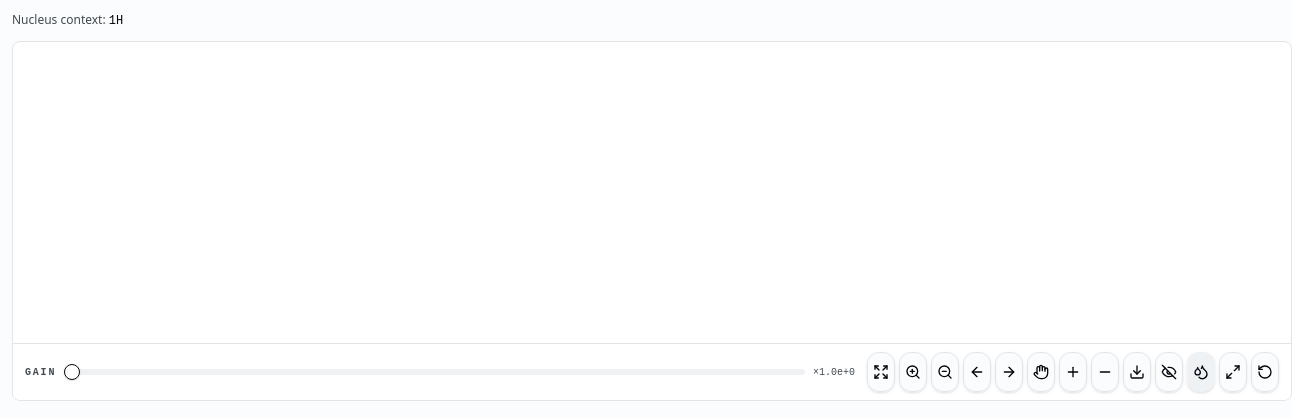
Scenario: canvas gesture contract — single-spectrum viewer › Escape cancels a drag and never resets the zoom
The width and height of the screenshot is (1292, 418).
Press + in the element with test id "spectrum-move-pane"
Press the mouse on the element with test id "spectrum-move-pane" at (652, 192), box [13, 42, 1291, 343]
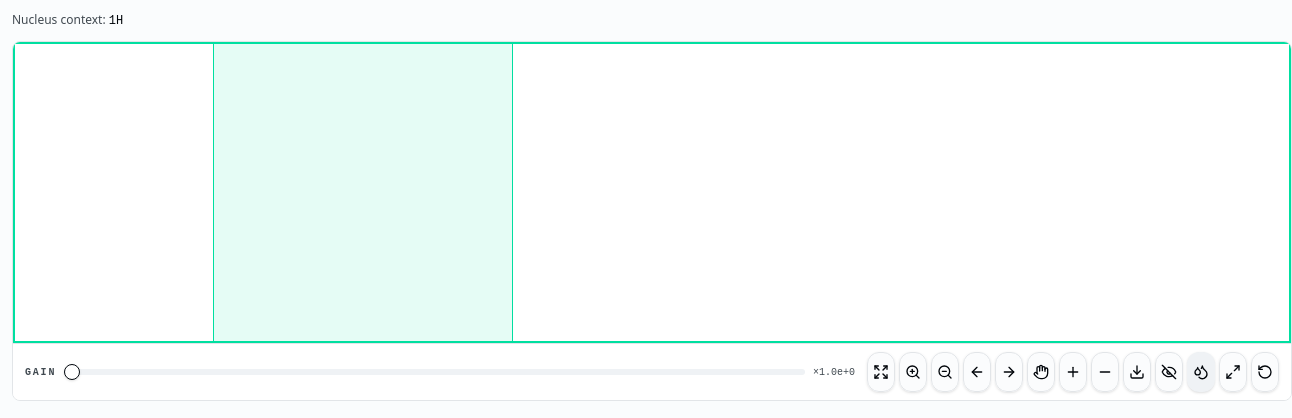
Press Escape in the element with test id "spectrum-move-pane"
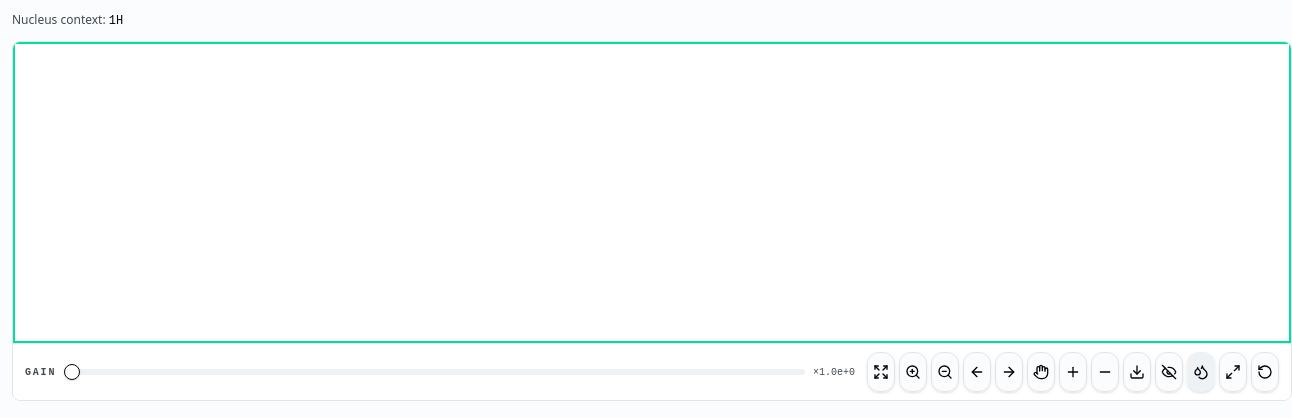
Result: the element with test id "spectrum-zoom-band" is gone
